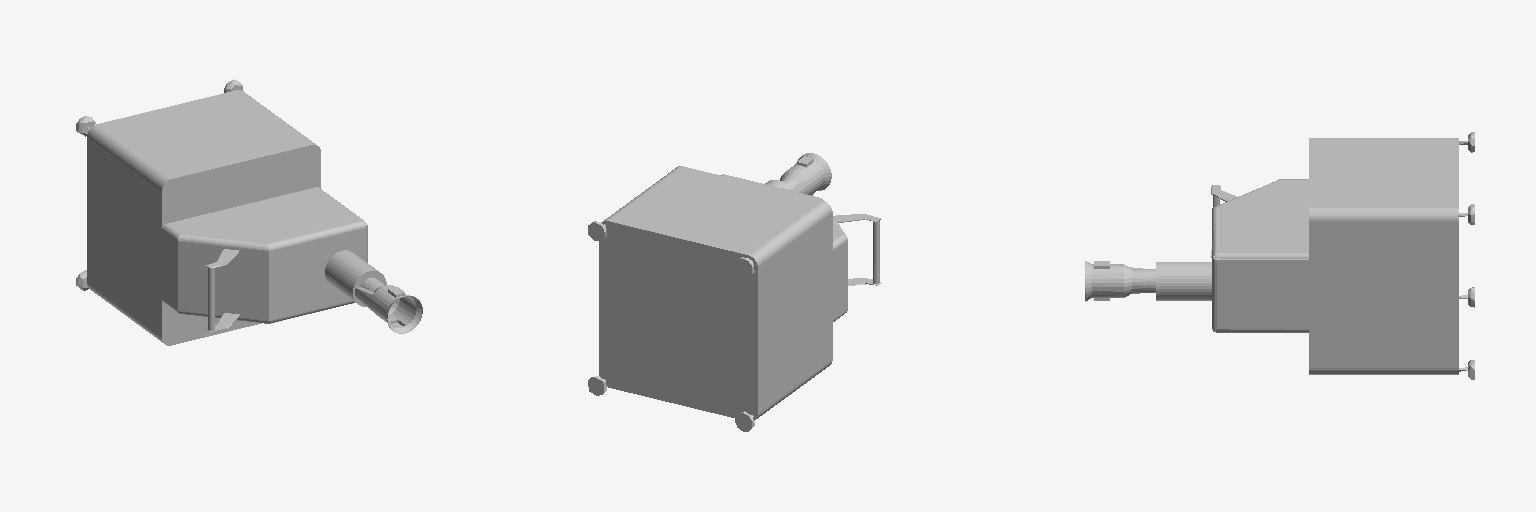
3 views of the same model, side by side, from view 1: azimuth 30°, elevation 25°; view 2: azimuth 150°, elevation 25°; view 3: azimuth 270°, elevation 25° (orthographic).
Parts seen in each view (by area): view 1: Shape_IndexedFaceSet_Shape_IndexedFaceSet.038, Shape_IndexedFaceSet.002_Shape_IndexedFaceSet.040, Shape_IndexedFaceSet.001_Shape_IndexedFaceSet.039; view 2: Shape_IndexedFaceSet_Shape_IndexedFaceSet.038, Shape_IndexedFaceSet.002_Shape_IndexedFaceSet.040; view 3: Shape_IndexedFaceSet_Shape_IndexedFaceSet.038, Shape_IndexedFaceSet.002_Shape_IndexedFaceSet.040, Shape_IndexedFaceSet.001_Shape_IndexedFaceSet.039.
Part boxes in pixels (left/top/right/bottom): Shape_IndexedFaceSet_Shape_IndexedFaceSet.038: left=76, top=79, right=367, bottom=345; Shape_IndexedFaceSet.002_Shape_IndexedFaceSet.040: left=355, top=277, right=422, bottom=333; Shape_IndexedFaceSet.001_Shape_IndexedFaceSet.039: left=78, top=250, right=377, bottom=300; Shape_IndexedFaceSet_Shape_IndexedFaceSet.038: left=588, top=166, right=881, bottom=431; Shape_IndexedFaceSet.002_Shape_IndexedFaceSet.040: left=780, top=153, right=831, bottom=194; Shape_IndexedFaceSet_Shape_IndexedFaceSet.038: left=1211, top=132, right=1474, bottom=379; Shape_IndexedFaceSet.002_Shape_IndexedFaceSet.040: left=1085, top=261, right=1155, bottom=301; Shape_IndexedFaceSet.001_Shape_IndexedFaceSet.039: left=1159, top=262, right=1211, bottom=300.
Bounding box in the file's own units: 0.5874 × 0.5878 × 1.2.